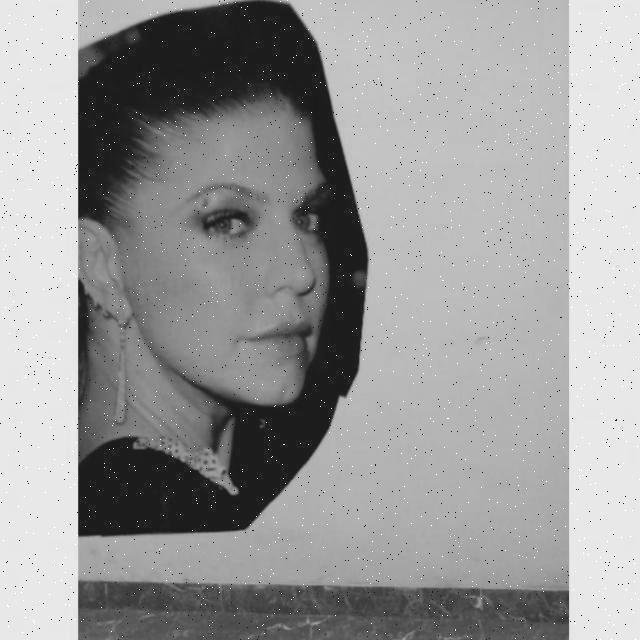fake: (80, 0, 376, 539)
